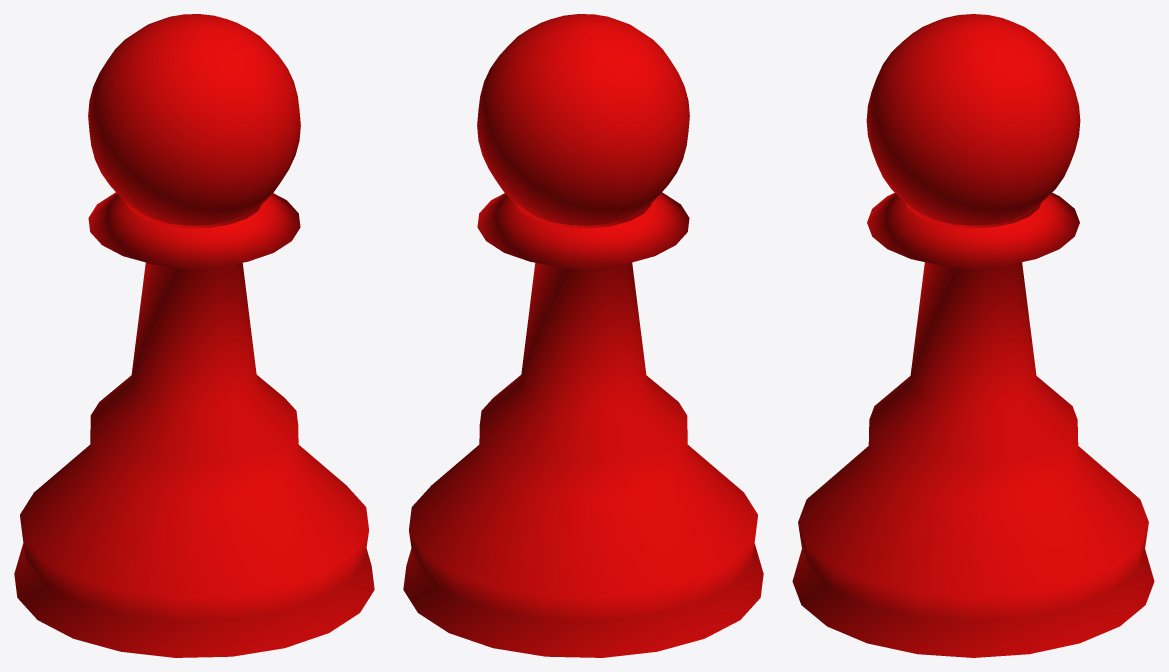
The model's file is SM_Pawn.fbx.
The picture shows the model from 3 angles, left to right: view 1: azimuth 30°, elevation 25°; view 2: azimuth 150°, elevation 25°; view 3: azimuth 270°, elevation 25°; orthographic projection.
Parts seen in each view (by area): view 1: SM_Pawn; view 2: SM_Pawn; view 3: SM_Pawn.
Part boxes in pixels (left/top/right/bottom): SM_Pawn: left=14, top=14, right=374, bottom=657; SM_Pawn: left=403, top=14, right=763, bottom=657; SM_Pawn: left=792, top=14, right=1154, bottom=657.
Bounding box in the file's own units: 1.1 × 1.87 × 1.1.
